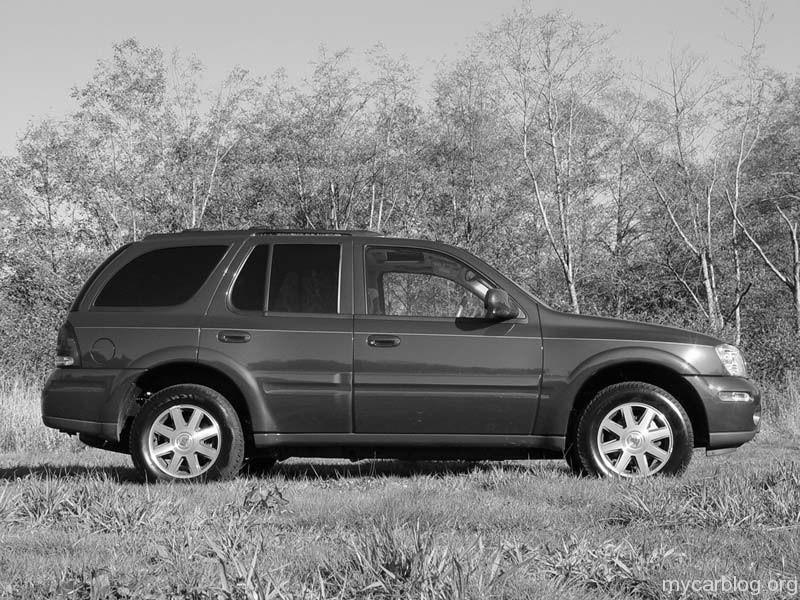car: (40, 226, 768, 490)
